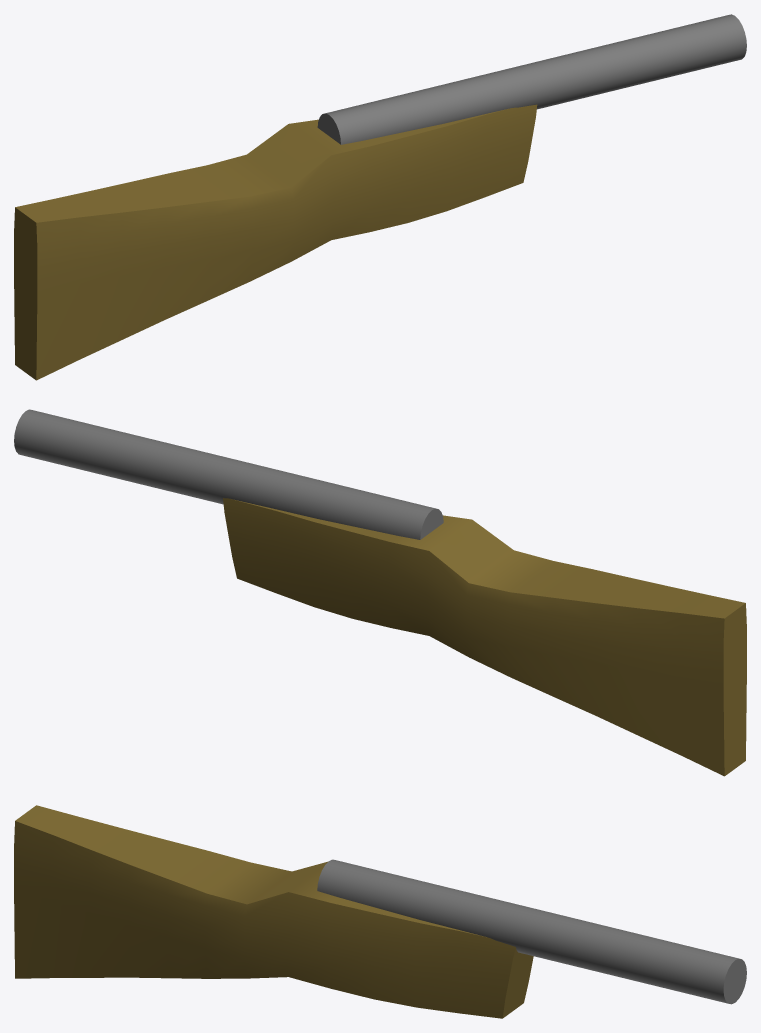
Rendered from gun.fbx.
The picture shows the model from 3 angles, top to bottom: view 1: azimuth 30°, elevation 25°; view 2: azimuth 150°, elevation 25°; view 3: azimuth 330°, elevation 25°; orthographic projection.
Visible parts, largest first — view 1: pCylinder2; view 2: pCylinder2; view 3: pCylinder2.
Part boxes in pixels (x1,y1,x2,y2): pCylinder2: (14,14,746,380); pCylinder2: (14,409,746,776); pCylinder2: (14,805,746,1018).
Bounding box in the file's own units: 17.47 × 4.33 × 2.11.
